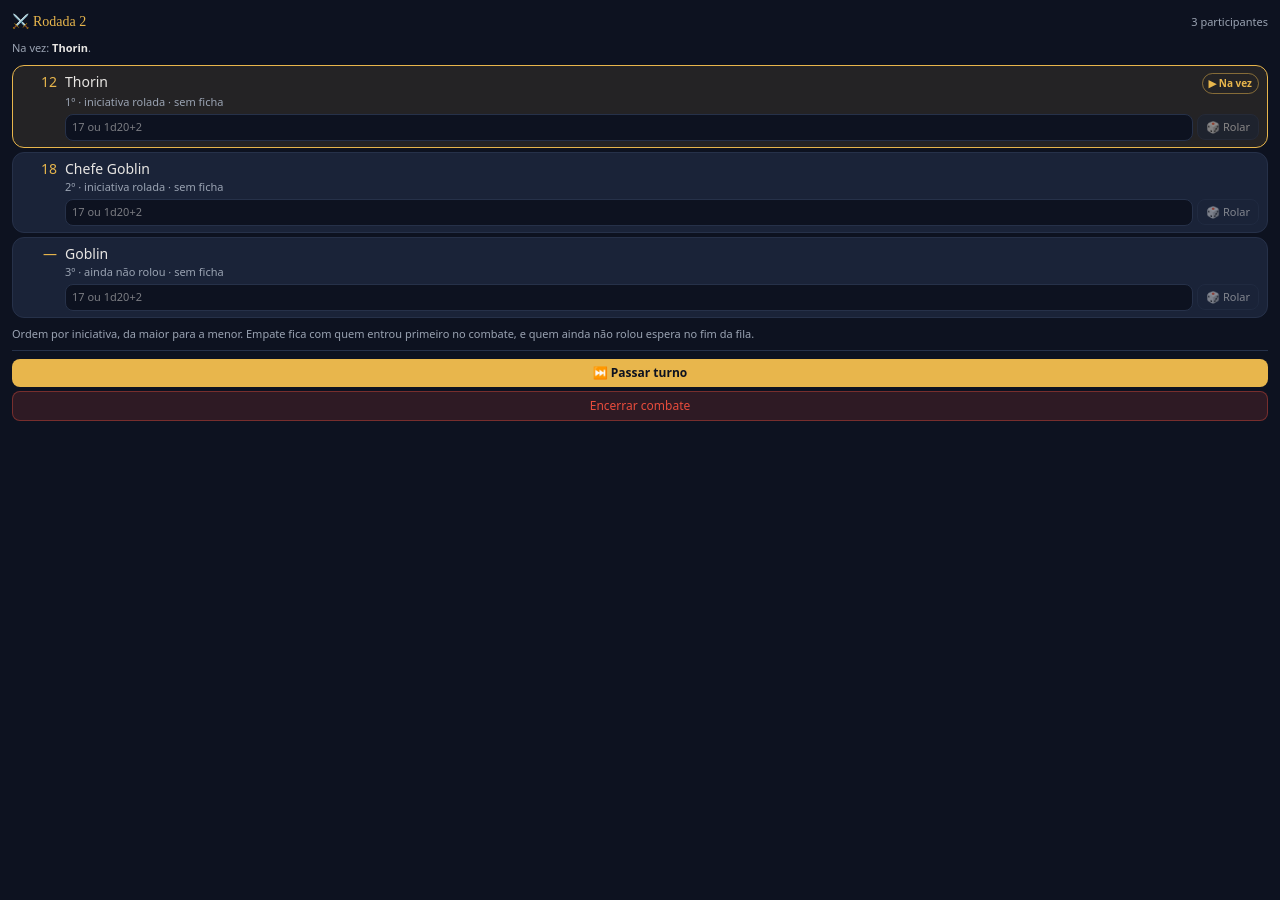
Scenario: PainelIniciativa — turno e encerramento são do mestre › o combate encerrado esvazia o painel lendo o mesmo formato do GET
Click the button "Encerrar combate": (640, 406) [12,391,1268,421]
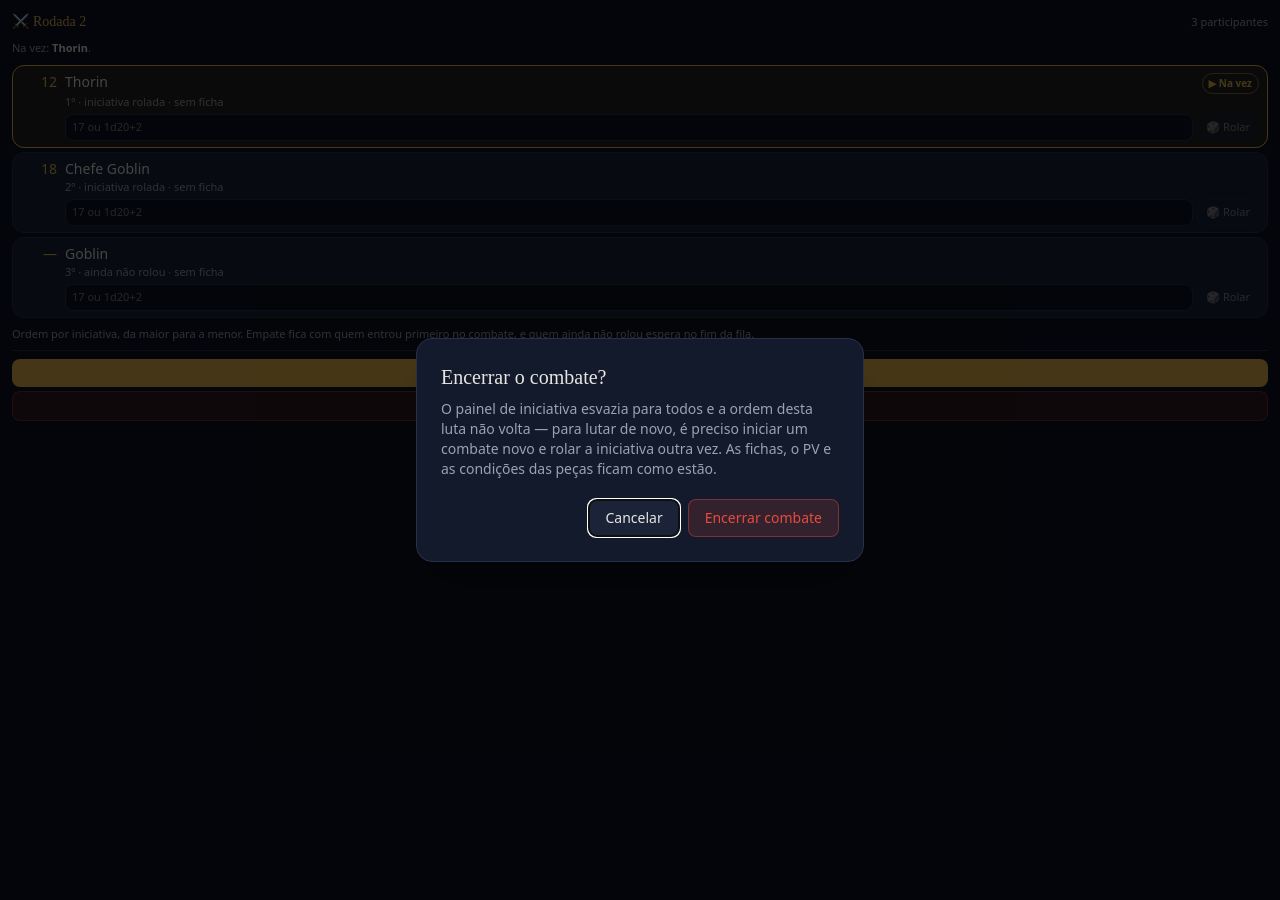
Click the button "Encerrar combate": (763, 518) [688,499,839,537]
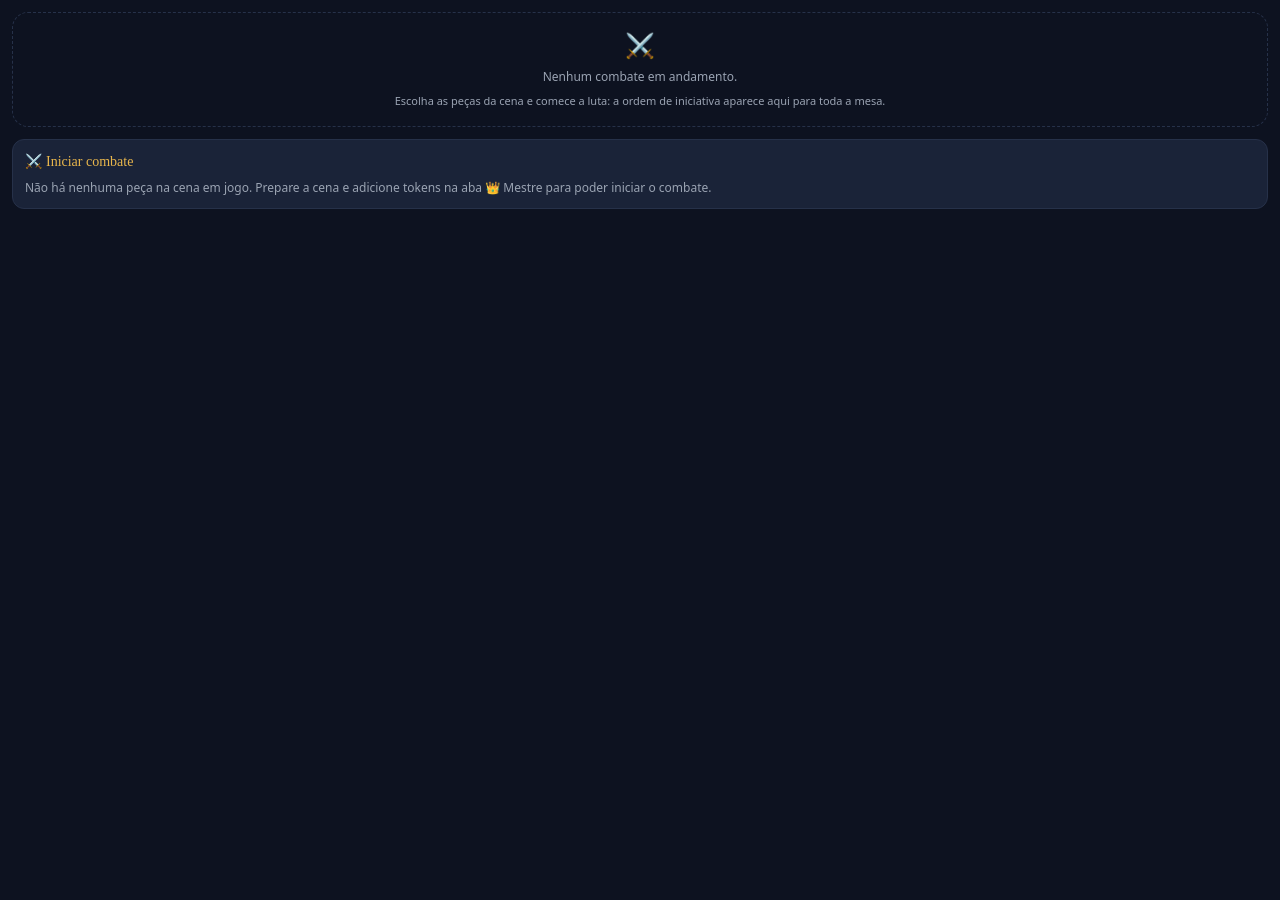
Check: the text "Nenhum combate em andamento." is shown, box [543,69,737,85]
